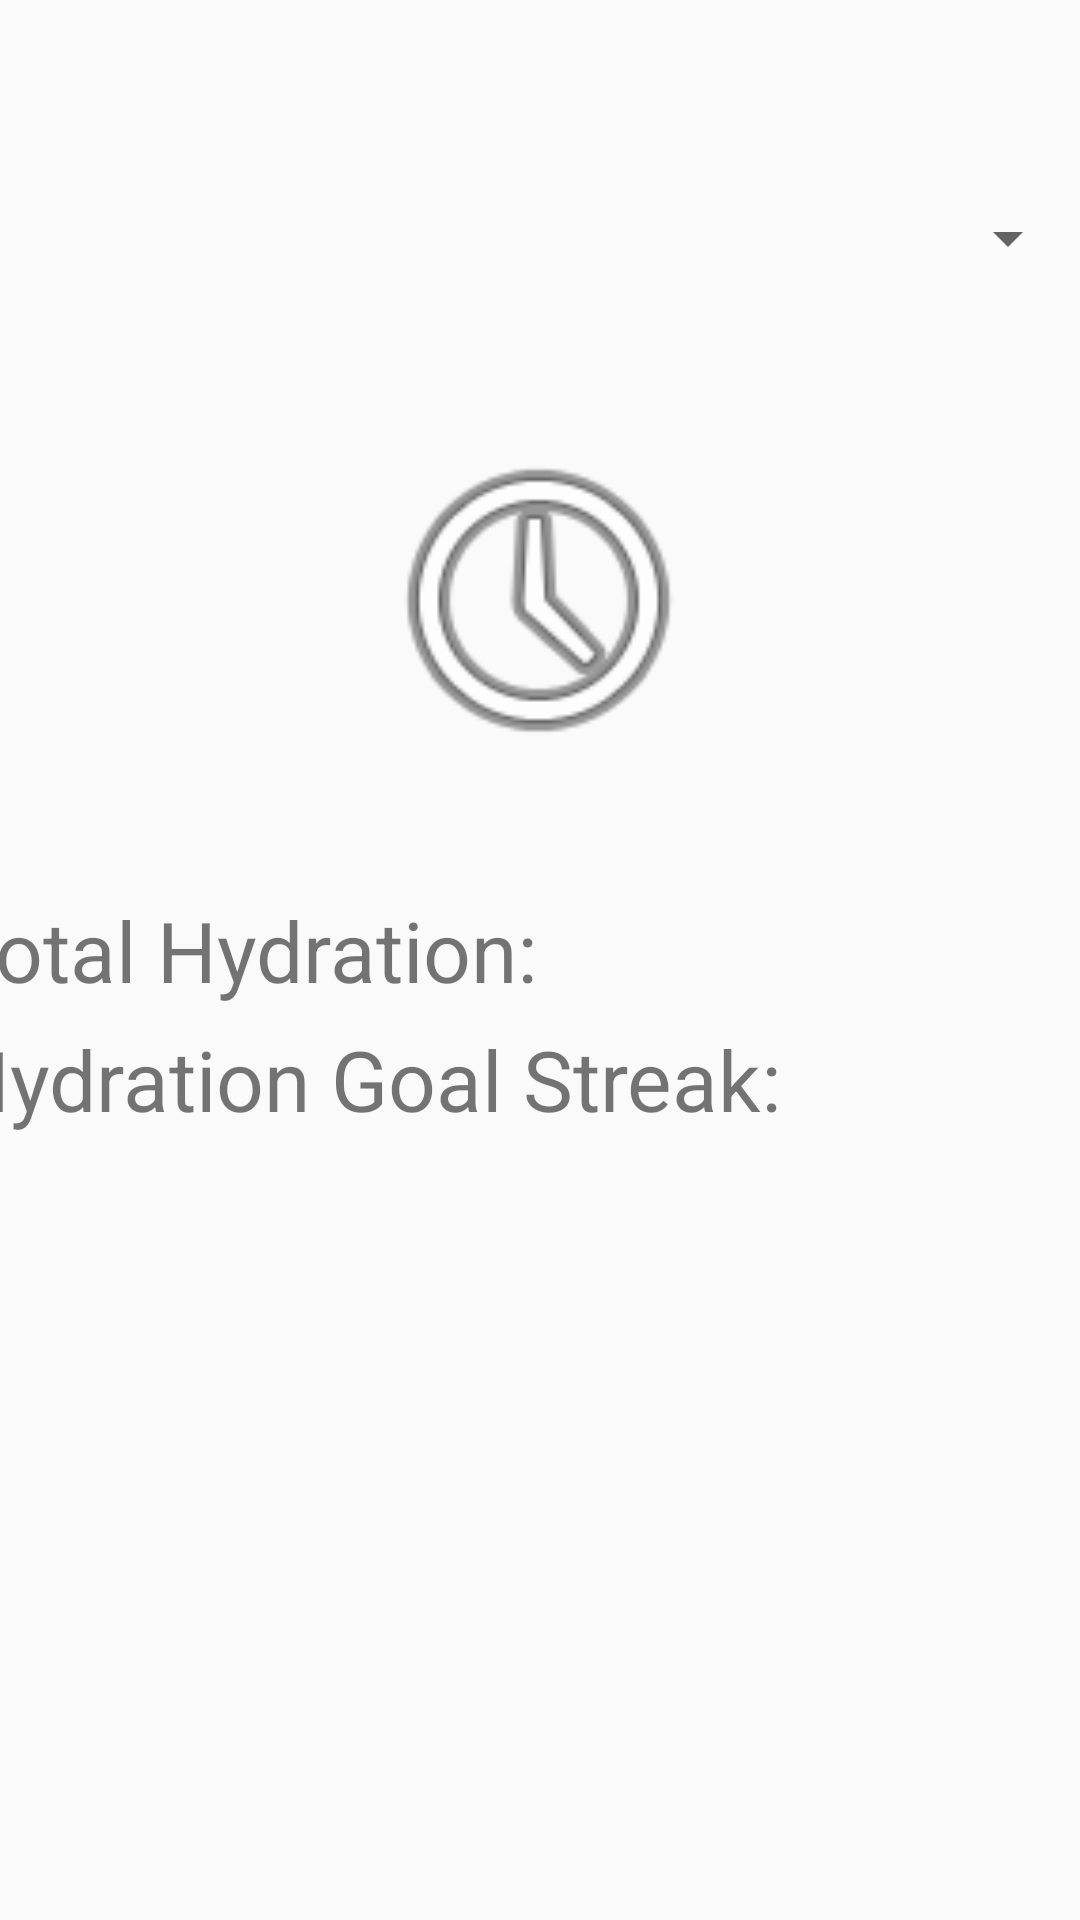

Icon click points for this 1080x1920 phone screenshot, format [x,y]:
recent history: [538,600]
